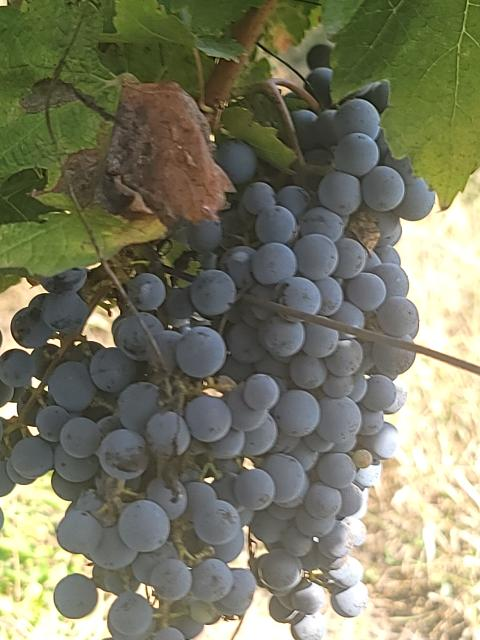grapes: (0, 244, 265, 640), (216, 86, 435, 342), (236, 302, 415, 615)
